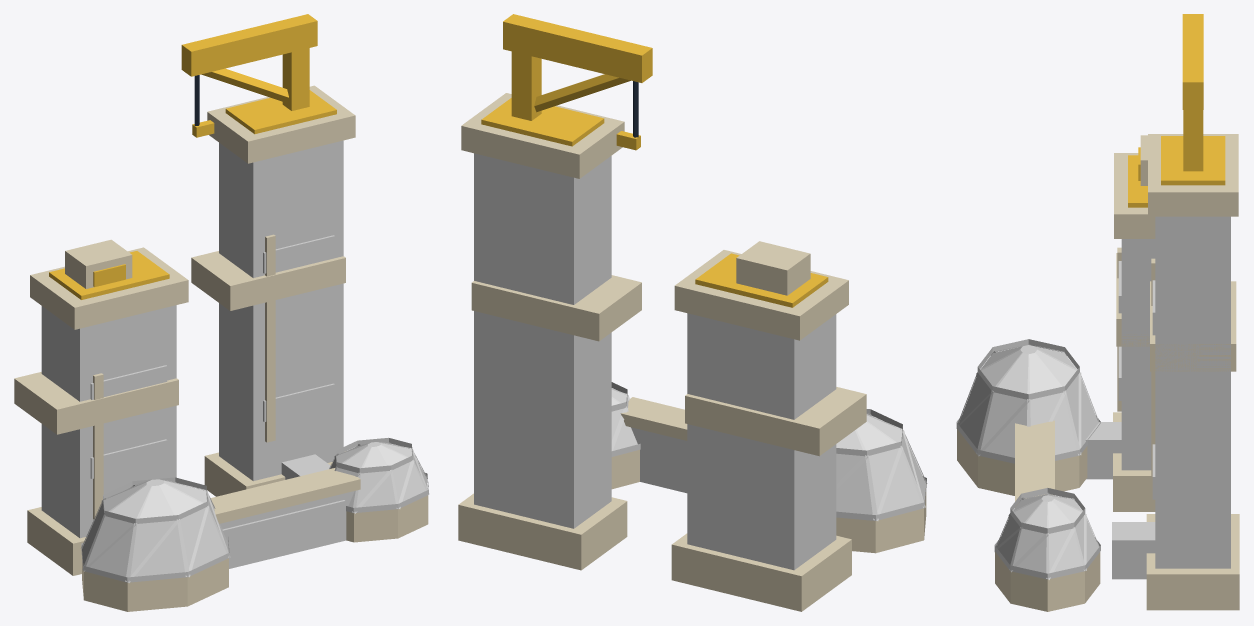
File: space_capital_guilds.glb
3 views of the same model, side by side, from view 1: azimuth 30°, elevation 25°; view 2: azimuth 150°, elevation 25°; view 3: azimuth 270°, elevation 25° (orthographic). The views are drawn at different scales.
Visible parts, largest first — view 1: FixedDetails, WoodBody, BrassTrim; view 2: WoodBody, FixedDetails, BrassTrim; view 3: WoodBody, FixedDetails, BrassTrim.
Boxes of the visible parts, left/top/right/bottom form: FixedDetails: left=14, top=75, right=428, bottom=611; WoodBody: left=41, top=140, right=429, bottom=582; BrassTrim: left=49, top=14, right=336, bottom=299; WoodBody: left=474, top=153, right=927, bottom=570; FixedDetails: left=458, top=81, right=926, bottom=611; BrassTrim: left=481, top=14, right=828, bottom=307; WoodBody: left=956, top=216, right=1230, bottom=579; FixedDetails: left=957, top=134, right=1239, bottom=611; BrassTrim: left=1128, top=14, right=1225, bottom=207.
Bounding box in the file's own units: 0.3973 × 0.4996 × 0.249.
